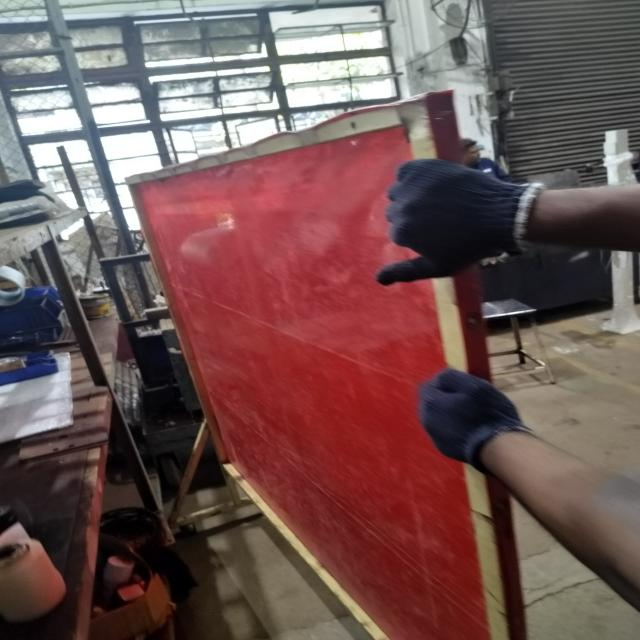Gloves-Detection: (380, 156, 535, 306), (405, 366, 506, 463)
